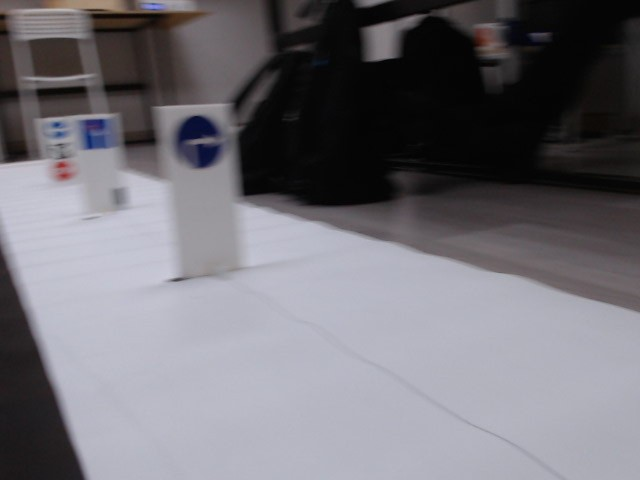Right: (175, 115, 223, 167)
priority_movement: (77, 117, 114, 154)
